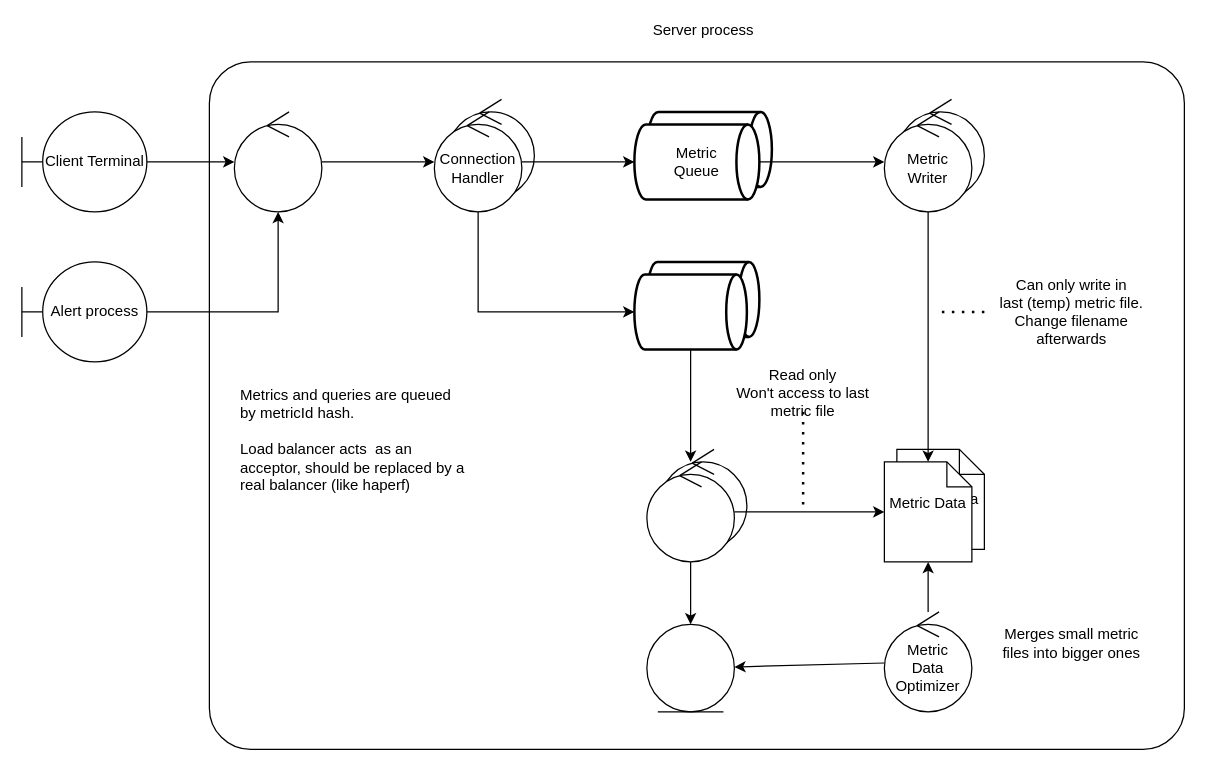
The diagram is 1206 pixels wide and 771 high, and some of its shapes have lost their labels. Each missing label, with the centre of its shape:
Last Optimization: point 690,667
Load Balancer: point 277,161
Metric Reader: point 690,511
Query Queue: point 690,311
